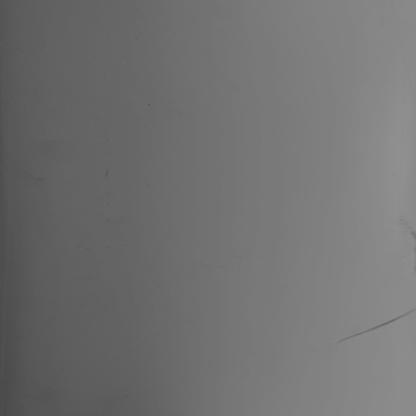sunshang: (333, 306, 416, 345)
